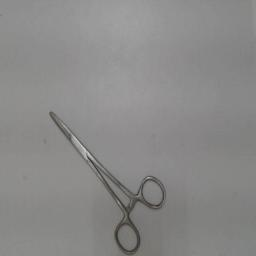Mayo Needle Holder: (43, 99, 171, 255)
